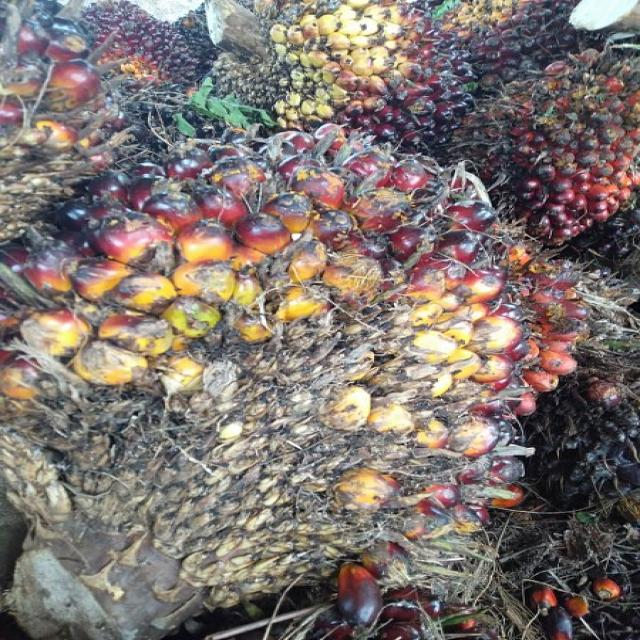fraksi 1: (0, 117, 576, 611)
